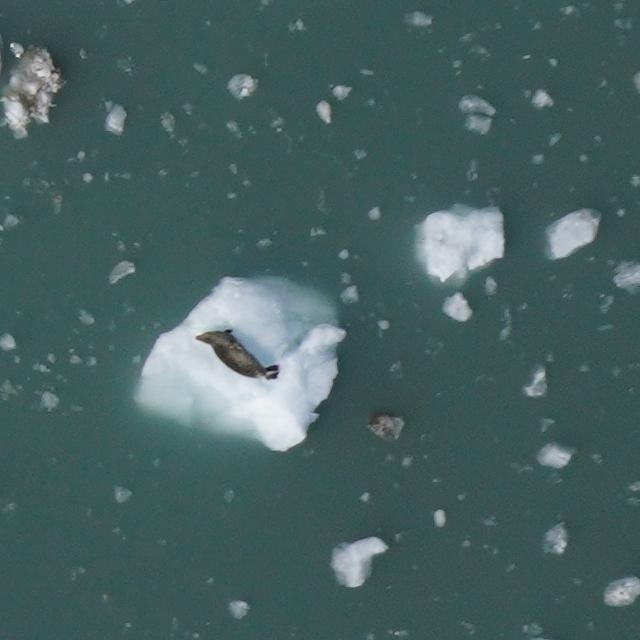seal: (189, 323, 284, 388)
